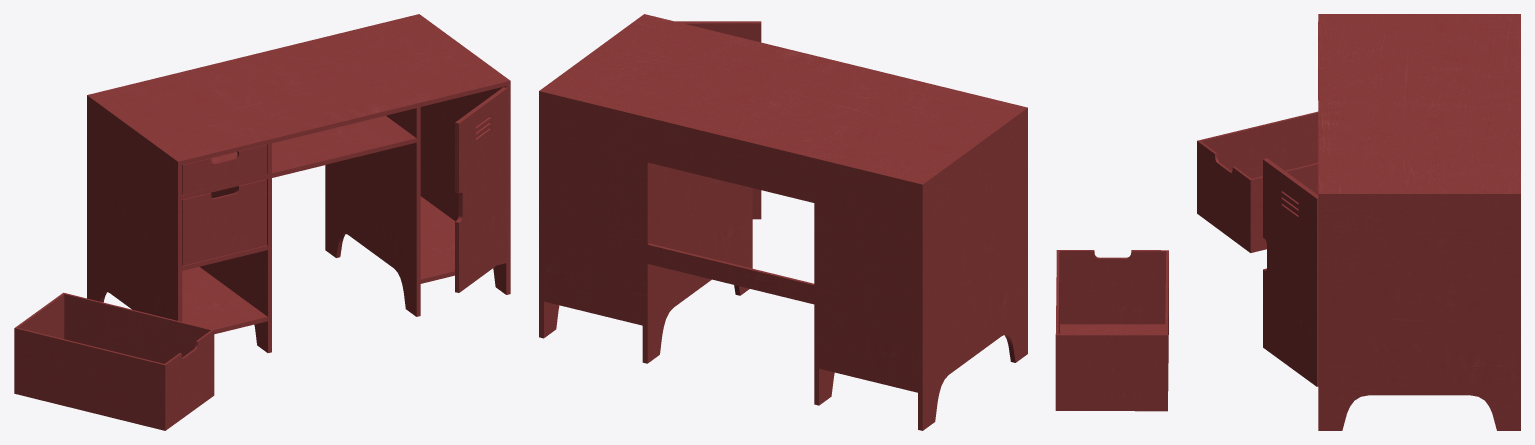
Rendered from desk_recurso.gltf.
3 views of the same model, side by side, from view 1: azimuth 30°, elevation 25°; view 2: azimuth 150°, elevation 25°; view 3: azimuth 270°, elevation 25° (orthographic). The views are drawn at different scales.
Parts seen in each view (by area): view 1: deskBox, deskBottomDrawer, deskDoor, deskMiddleDrawer, deskTopDrawer; view 2: deskBox, deskBottomDrawer, deskDoor; view 3: deskBox, deskDoor, deskBottomDrawer.
Part boxes in pixels (left/top/right/bottom): deskBox: left=87, top=14, right=510, bottom=352; deskBottomDrawer: left=14, top=292, right=214, bottom=430; deskDoor: left=455, top=87, right=507, bottom=292; deskMiddleDrawer: left=182, top=179, right=266, bottom=265; deskTopDrawer: left=182, top=144, right=267, bottom=194; deskBox: left=539, top=14, right=1027, bottom=430; deskBottomDrawer: left=1055, top=250, right=1168, bottom=411; deskDoor: left=675, top=21, right=761, bottom=219; deskBox: left=1318, top=14, right=1520, bottom=430; deskDoor: left=1263, top=158, right=1318, bottom=386; deskBottomDrawer: left=1197, top=111, right=1318, bottom=252.
Size of the model in its own units: 171 by 73.6 by 91.18.
5 materials, 5 textured.
